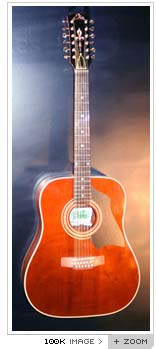guitar: (21, 7, 142, 318)
